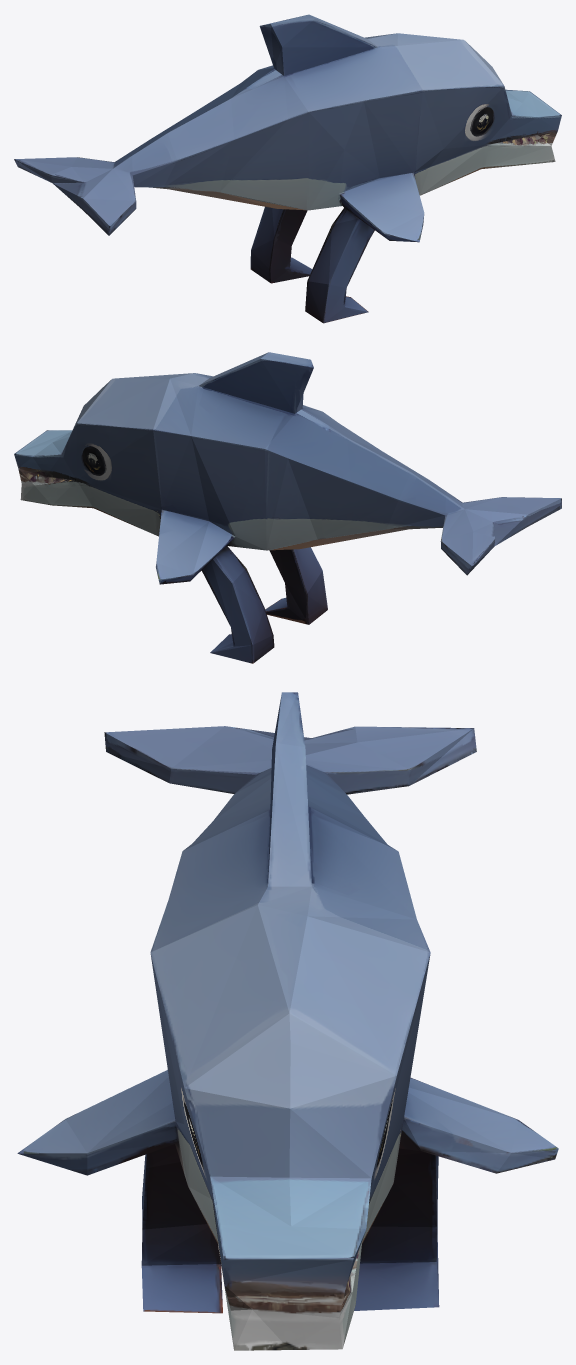
3 views of the same model, one above another, from view 1: azimuth 30°, elevation 25°; view 2: azimuth 150°, elevation 25°; view 3: azimuth 270°, elevation 25° (orthographic). The views are drawn at different scales.
Visible parts, largest first — view 1: Figure; view 2: Figure; view 3: Figure.
Boxes of the visible parts, left/top/right/bottom form: Figure: left=14, top=14, right=561, bottom=323; Figure: left=14, top=352, right=561, bottom=663; Figure: left=17, top=692, right=558, bottom=1350.
Size of the model in its own units: 0.7046 by 0.388 by 0.3402.
1 material, 1 textured.
